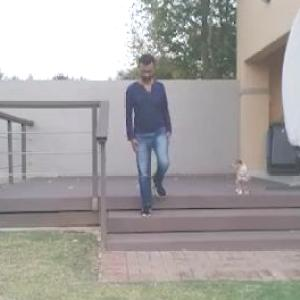follow: (126, 48, 172, 227)
